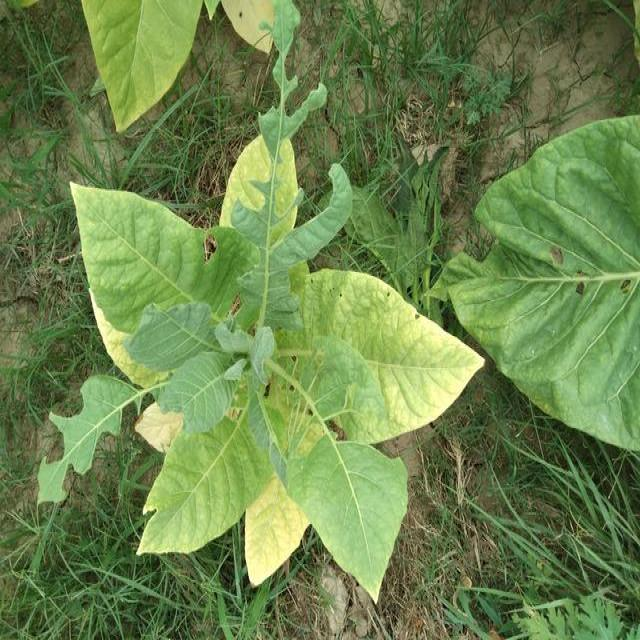crop: (60, 125, 487, 593)
